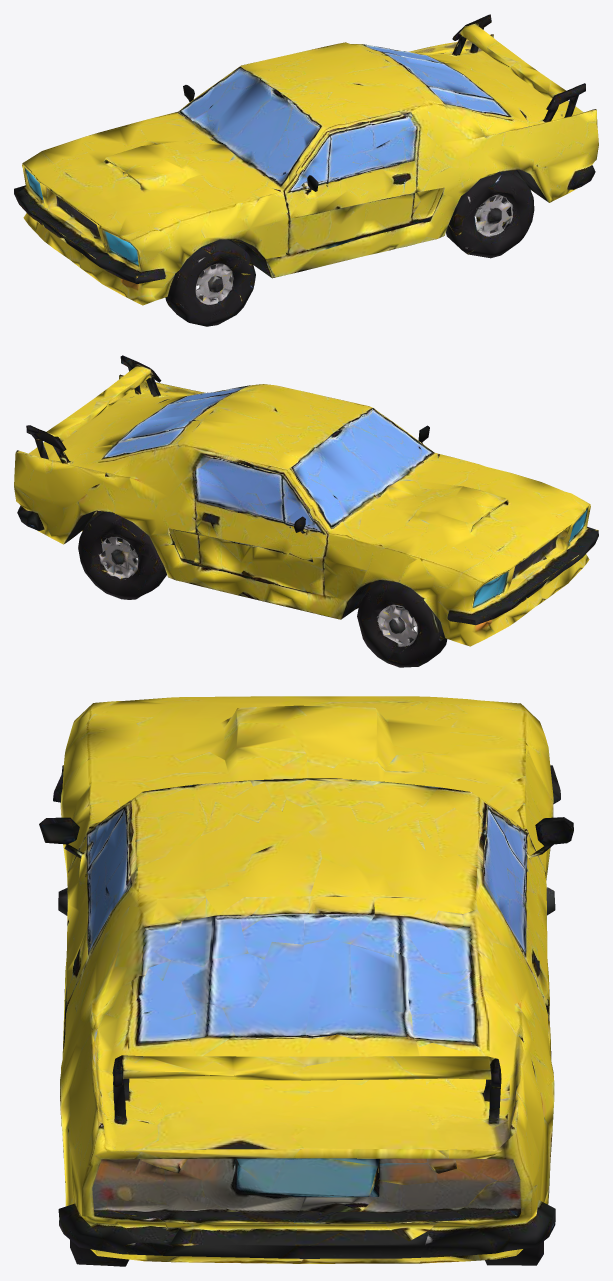
File: car2.opt.glb
3 renders of one model, top to bottom at view 1: azimuth 30°, elevation 25°; view 2: azimuth 150°, elevation 25°; view 3: azimuth 270°, elevation 25°, orthographic. The views are drawn at different scales.
Size of the model in its own units: 1.9 by 0.6101 by 0.9083.
Materials: 1 (1 with a texture image).
